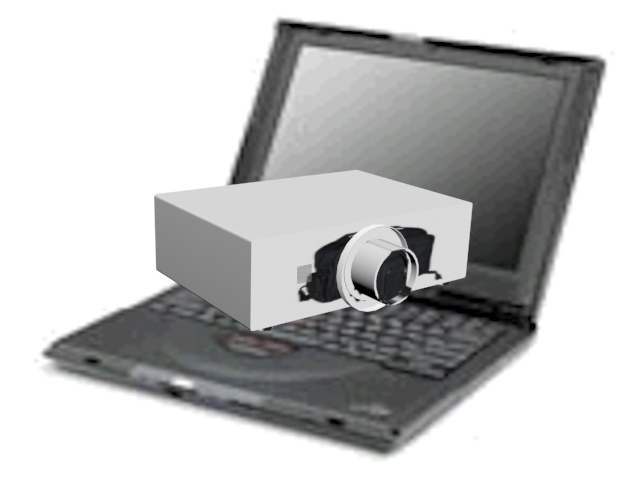projector: (153, 169, 480, 336)
